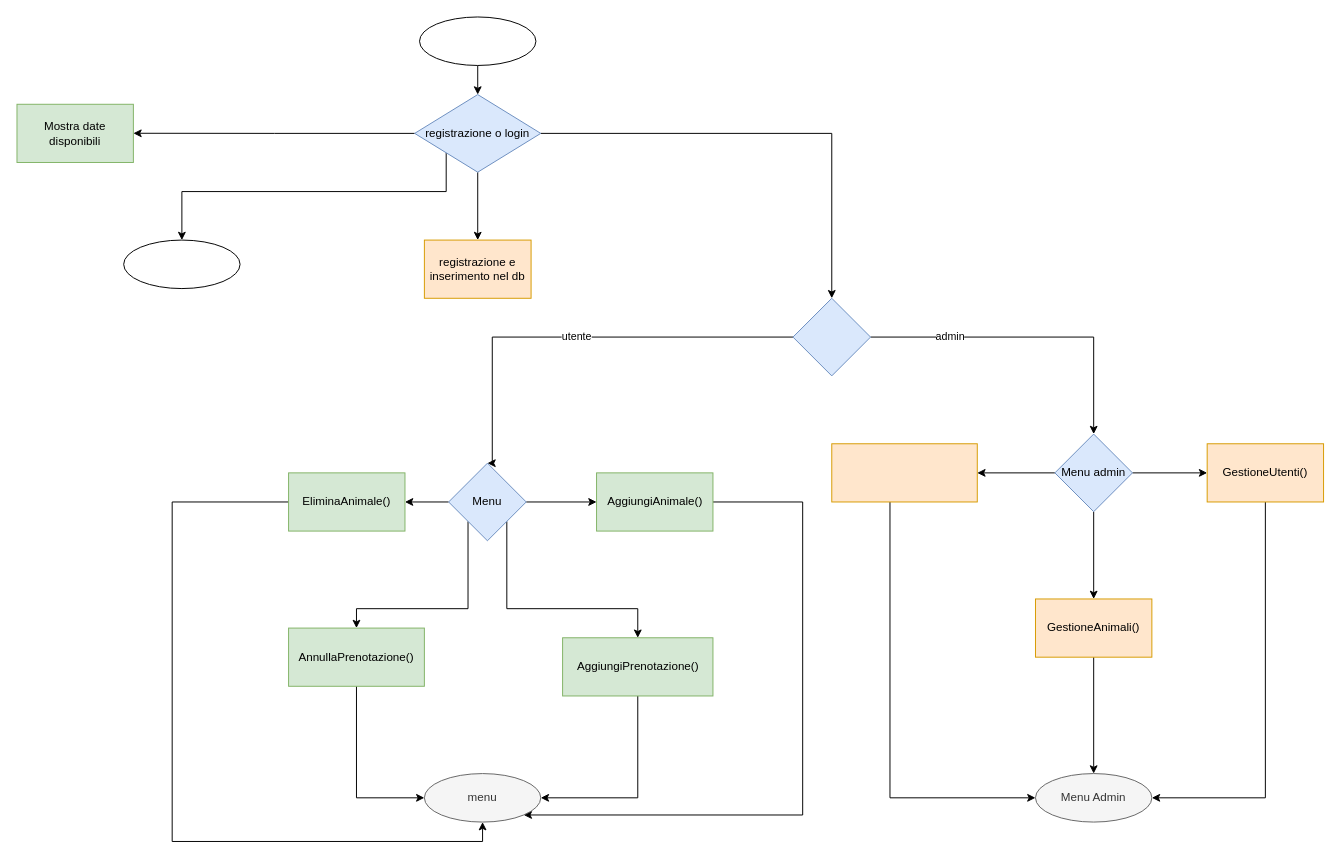
Some shapes in this 1341 by 866 pixel diagram are drawn without their labels. The centre of each missing label's shape, as x and y in pixels:
"fine" belongs at [181,264].
"GestionePrenotazioni()" belongs at [904,472].
"INIZIO" belongs at [477,40].
"login" belongs at [831,336].
